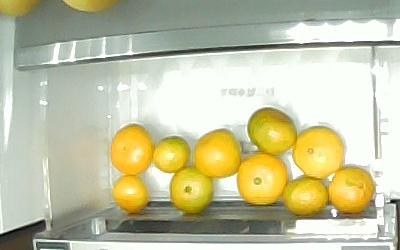tangerine: (290, 124, 345, 178), (235, 151, 288, 205), (246, 105, 297, 155), (109, 122, 155, 176), (193, 127, 241, 178), (326, 164, 375, 213), (168, 164, 214, 213), (280, 174, 328, 215), (151, 134, 191, 173), (110, 173, 148, 213)
